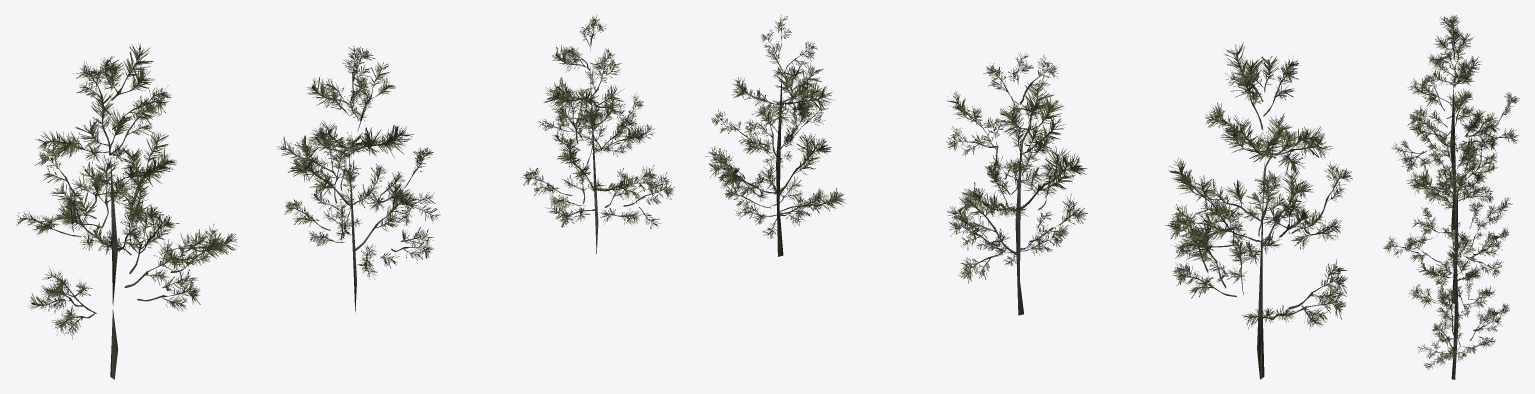
File: pine.glb
The picture shows the model from 3 angles, left to right: view 1: azimuth 30°, elevation 25°; view 2: azimuth 150°, elevation 25°; view 3: azimuth 270°, elevation 25°; orthographic projection. The views are drawn at different scales.
Visible parts, largest first — view 1: pine_sapling_small_b; view 2: pine_sapling_small_b; view 3: pine_sapling_small_b.
Boxes of the visible parts, left/top/right/bottom form: pine_sapling_small_b: left=16, top=14, right=674, bottom=379; pine_sapling_small_b: left=705, top=15, right=1352, bottom=379; pine_sapling_small_b: left=1383, top=15, right=1519, bottom=379.
Size of the model in its own units: 2.64 by 1.3 by 0.7703.
2 materials, 2 textured.
